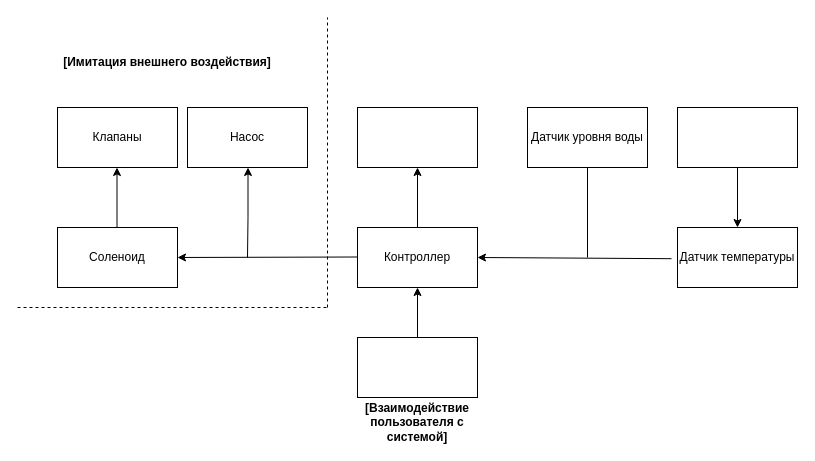
Some shapes in this 815 by 461 pixel diagram are drawn without their labels. The shapes that lost their labels are listed below. From the top down, each one's centre as x and y in pixels, then its label:
At (417,137): "Отображение состояния системы (светодиодная лента)".
At (737,137): "Нагревательный элемент".
At (417,367): "Интерфейс управления макетом".
